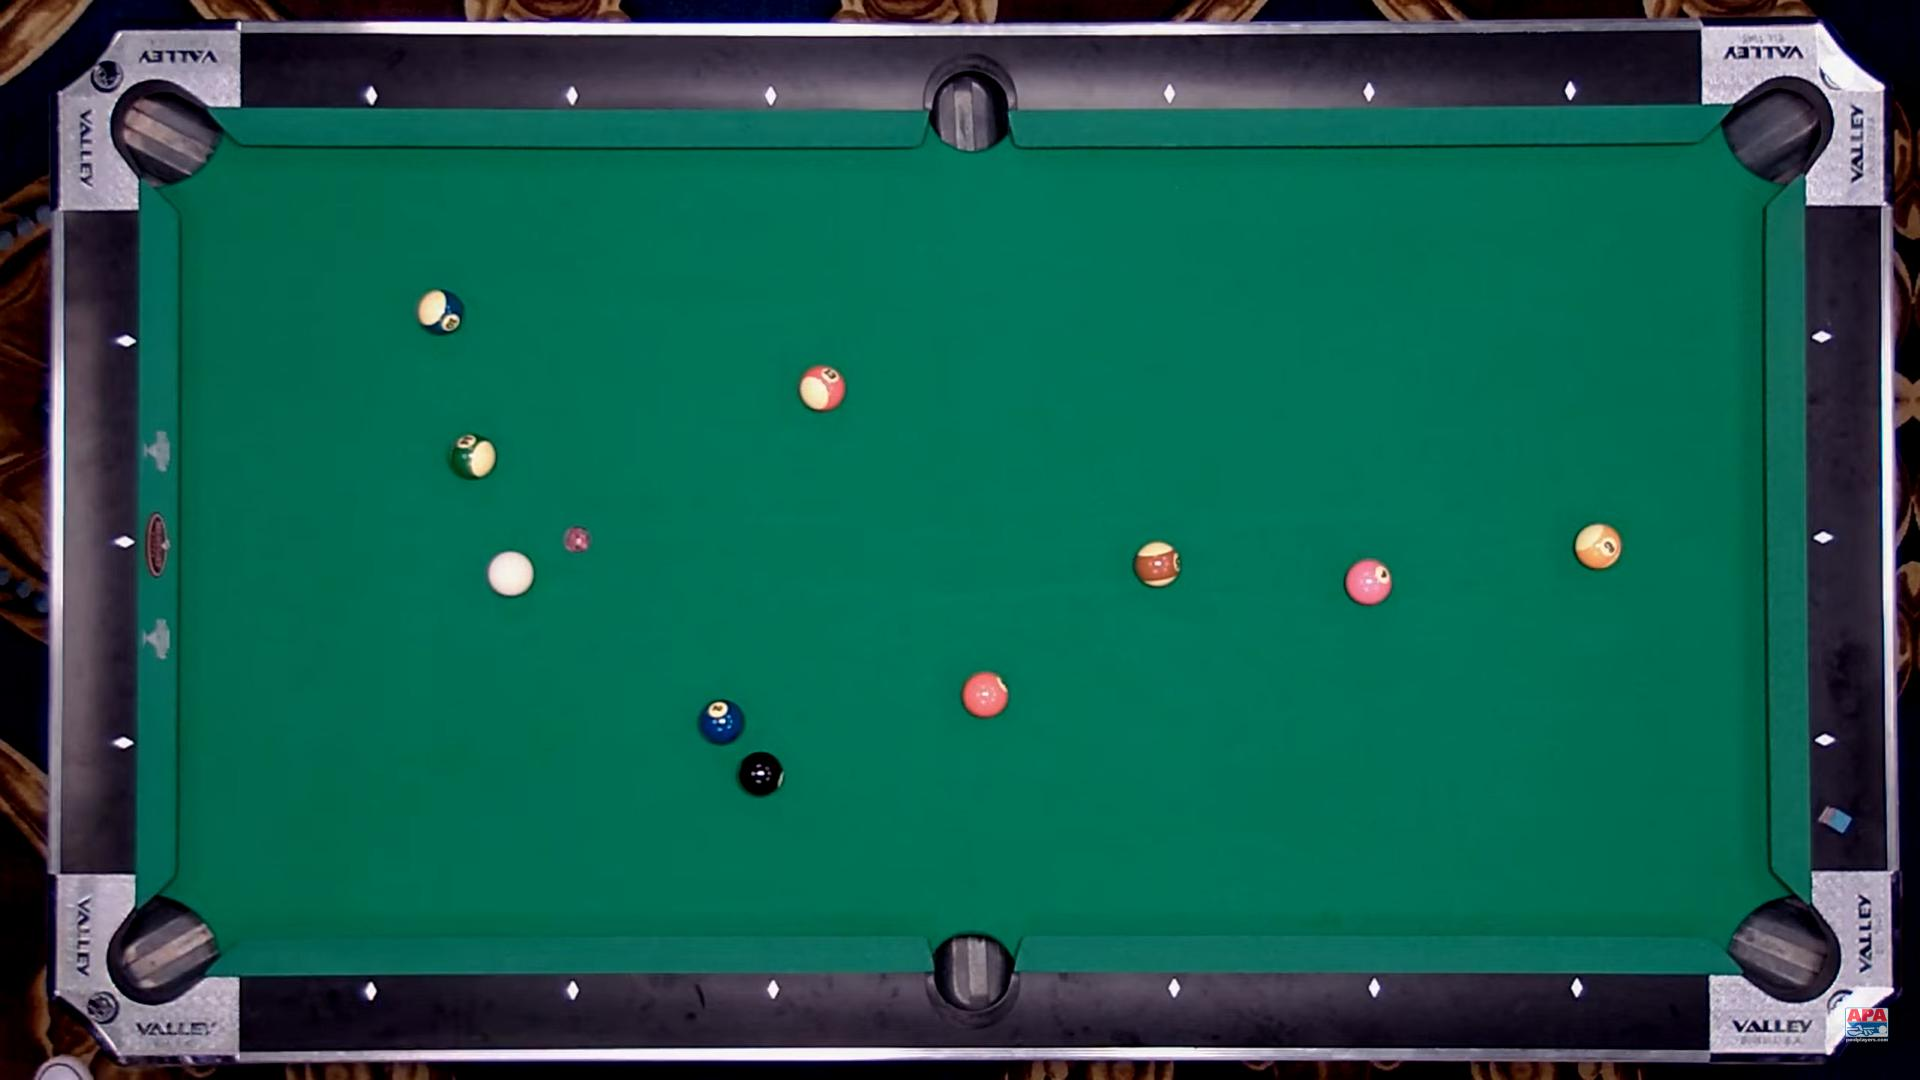Black: (740, 752, 785, 796)
Cue: (488, 553, 535, 597)
Dot: (764, 88, 778, 103), (1362, 84, 1377, 99), (1564, 84, 1578, 99), (1816, 330, 1830, 344), (1816, 531, 1830, 546), (1166, 981, 1180, 996), (115, 736, 129, 749), (117, 534, 132, 547), (119, 335, 133, 348), (364, 90, 378, 103), (564, 90, 579, 103), (1162, 87, 1176, 100), (1818, 735, 1833, 748), (1571, 981, 1584, 996), (766, 982, 779, 997), (564, 984, 579, 997), (364, 985, 377, 1000), (1366, 982, 1379, 996)
Solid: (1345, 559, 1393, 605), (698, 699, 745, 744), (963, 673, 1007, 719)
Striped: (450, 433, 498, 480), (1573, 524, 1622, 570), (799, 365, 847, 411), (417, 289, 464, 335), (1135, 541, 1182, 587)
